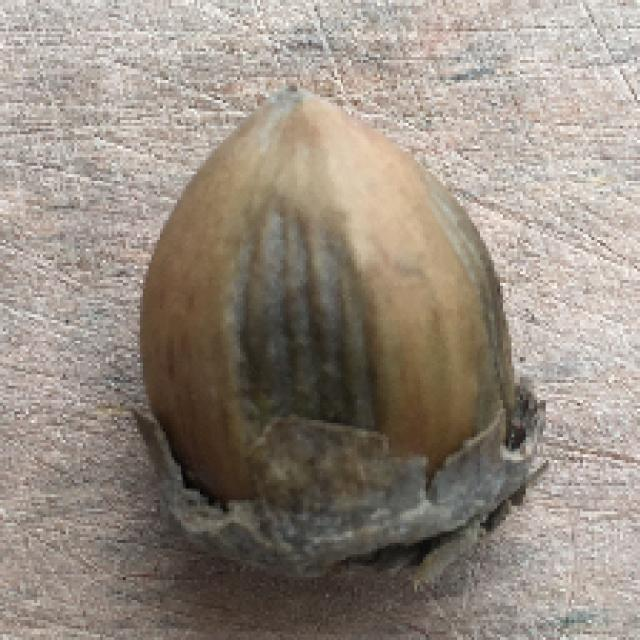damagedHazelnut: (129, 89, 542, 584)
